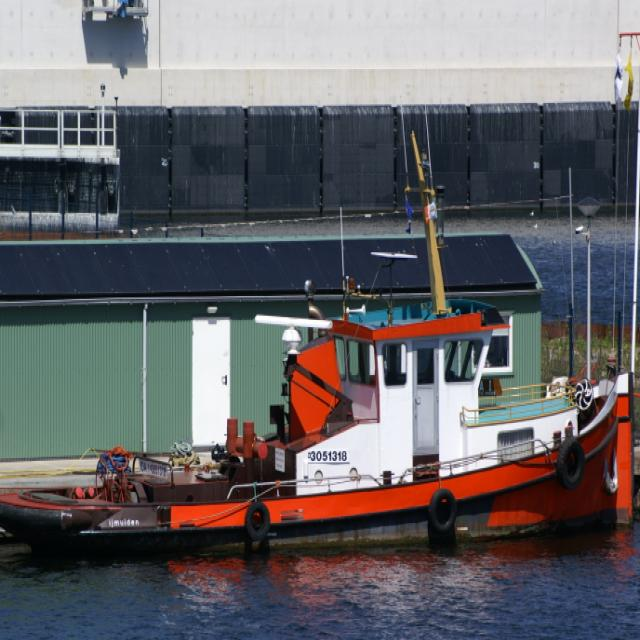tugboat: (1, 88, 640, 572)
